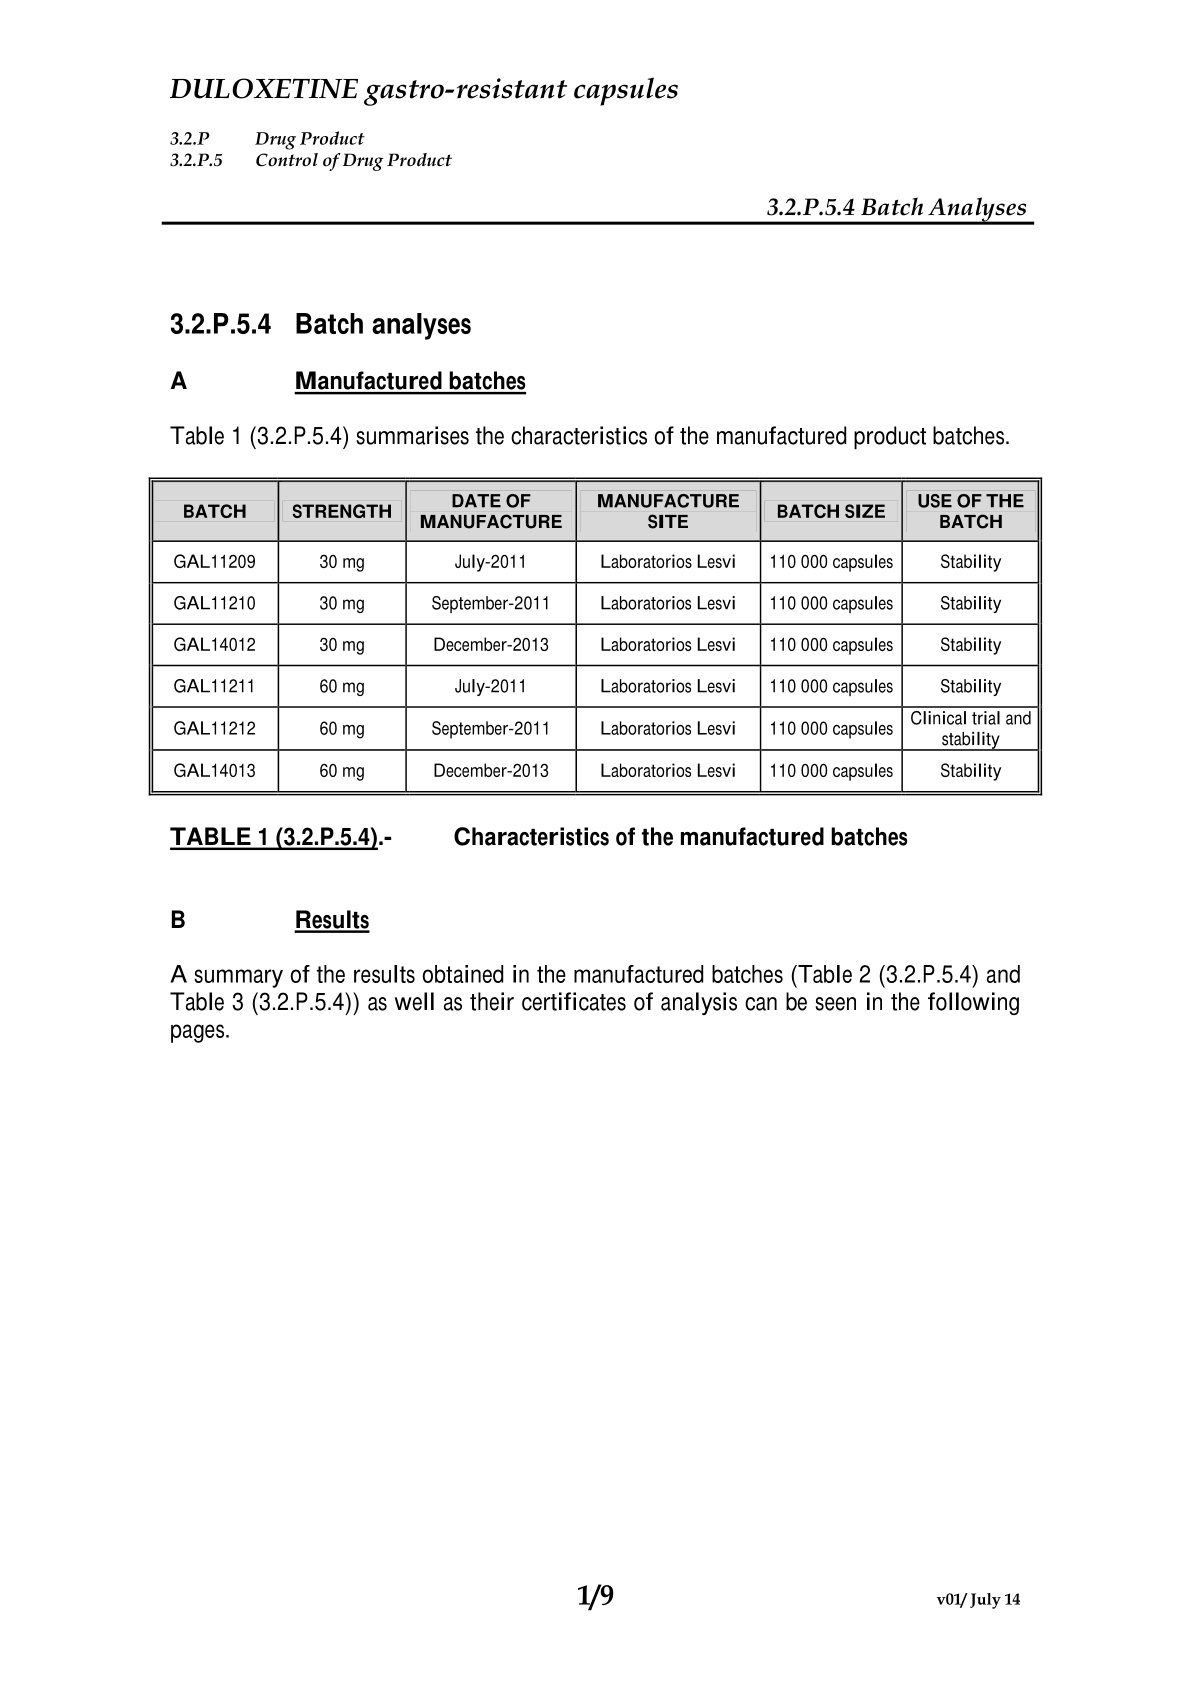full_lined: (147, 475, 1041, 796)
